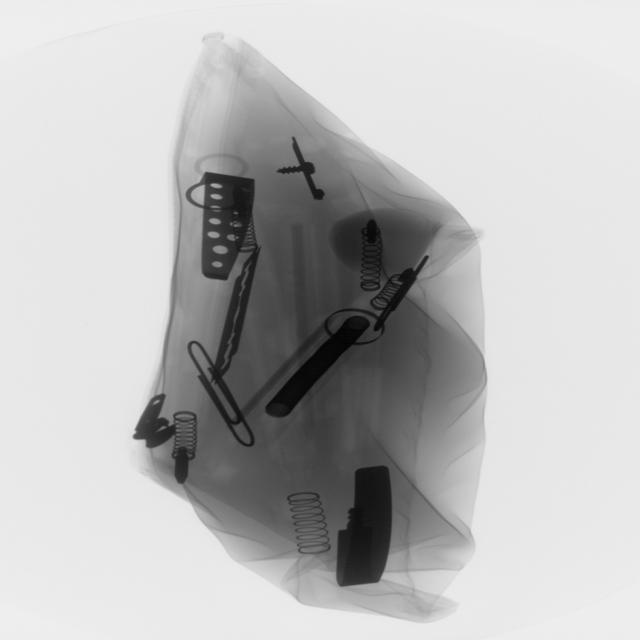knife: (198, 165, 255, 282)
pin: (181, 336, 262, 453)
